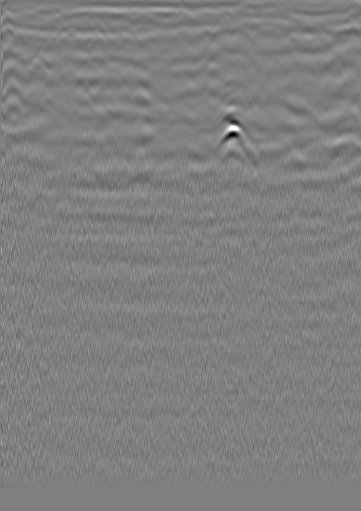가스: (211, 122, 258, 156)
상수: (301, 26, 321, 46)
오수: (26, 51, 46, 71)
우수: (170, 26, 190, 46)
